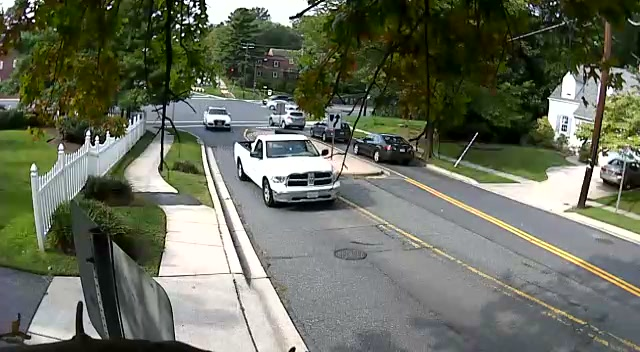car: (233, 130, 341, 207), (351, 133, 414, 165), (599, 151, 640, 190), (310, 114, 352, 144), (203, 106, 232, 131), (268, 110, 306, 129), (281, 111, 306, 130)
